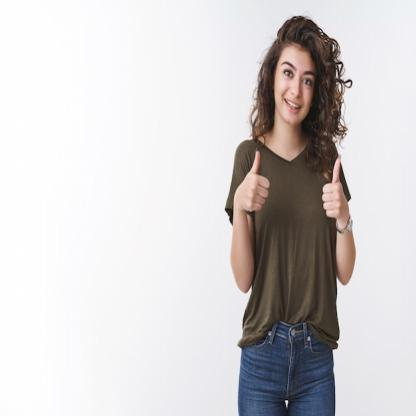thumb_up: (236, 146, 271, 216), (320, 151, 349, 222)
